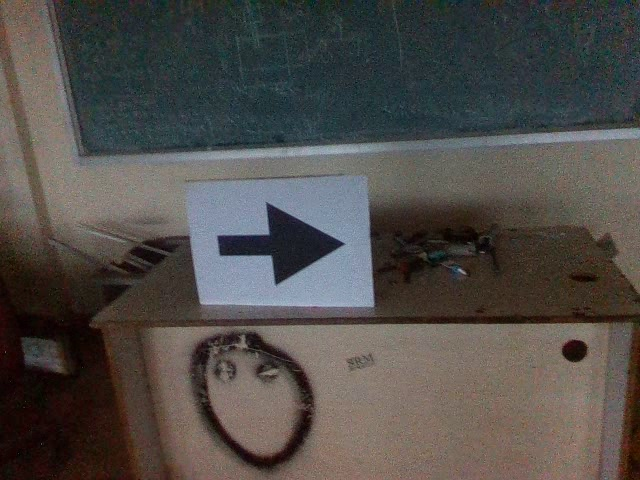Right: (212, 193, 355, 295)
